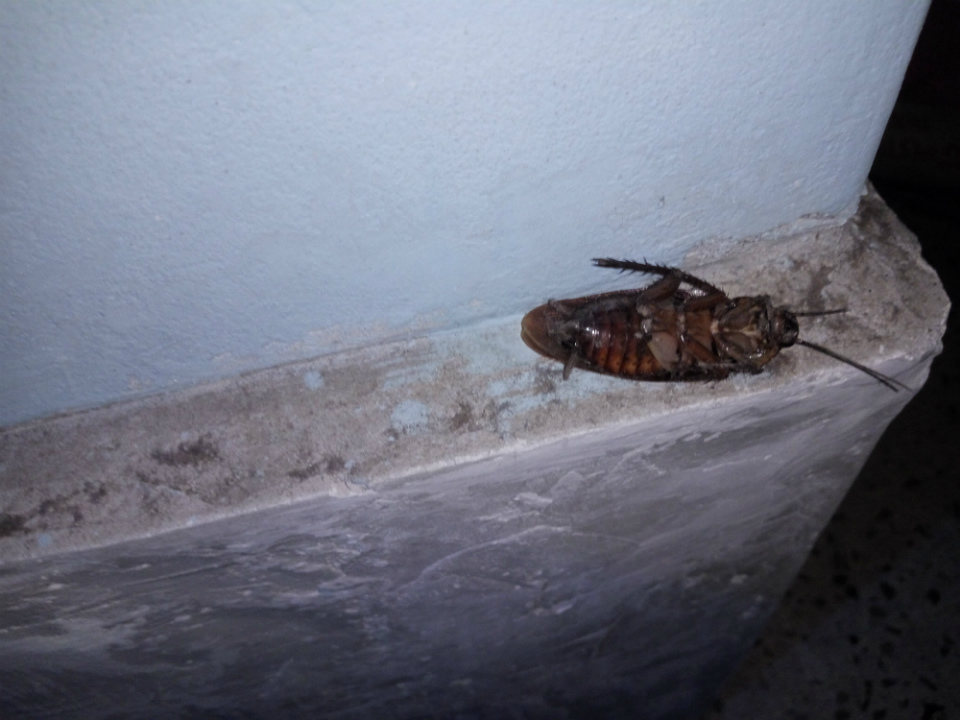cockroach: (439, 210, 944, 473)
